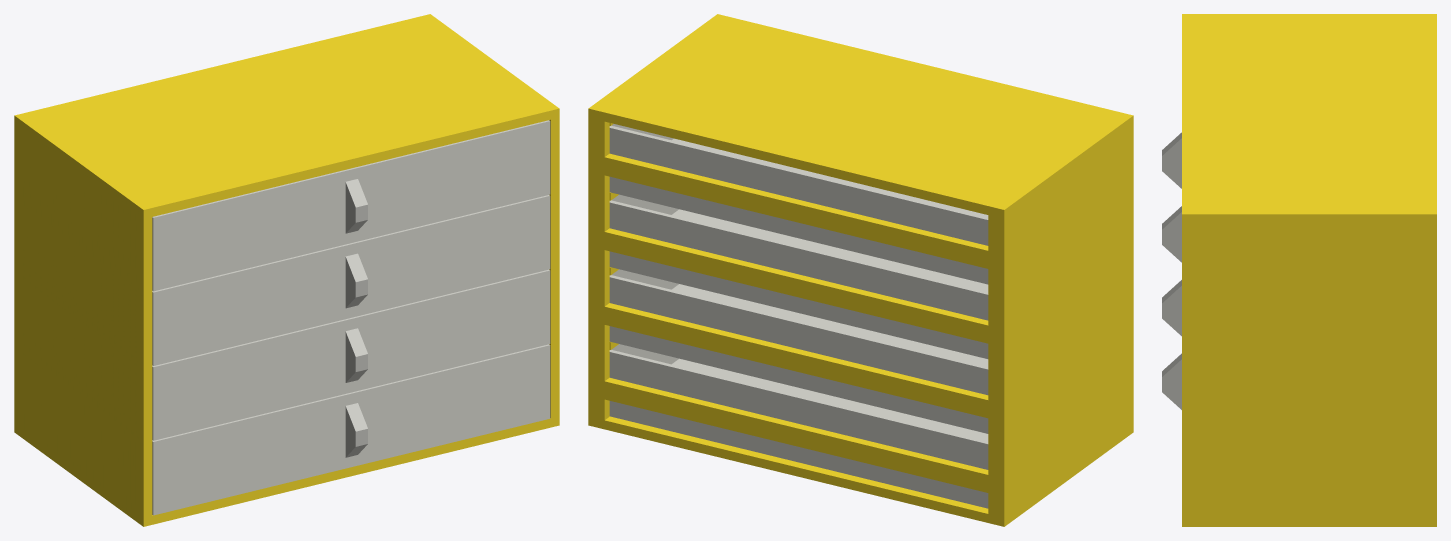
The model's file is openscad_parameterized-desk-drawers.glb.
3 renders of one model, left to right at view 1: azimuth 30°, elevation 25°; view 2: azimuth 150°, elevation 25°; view 3: azimuth 270°, elevation 25°, orthographic.
Visible parts, largest first — view 1: object; view 2: object; view 3: object.
Boxes of the visible parts, left/top/right/bottom form: object: left=14, top=14, right=559, bottom=526; object: left=588, top=14, right=1133, bottom=526; object: left=1162, top=14, right=1436, bottom=526.
Bounding box in the file's own units: 182 × 133 × 106.
